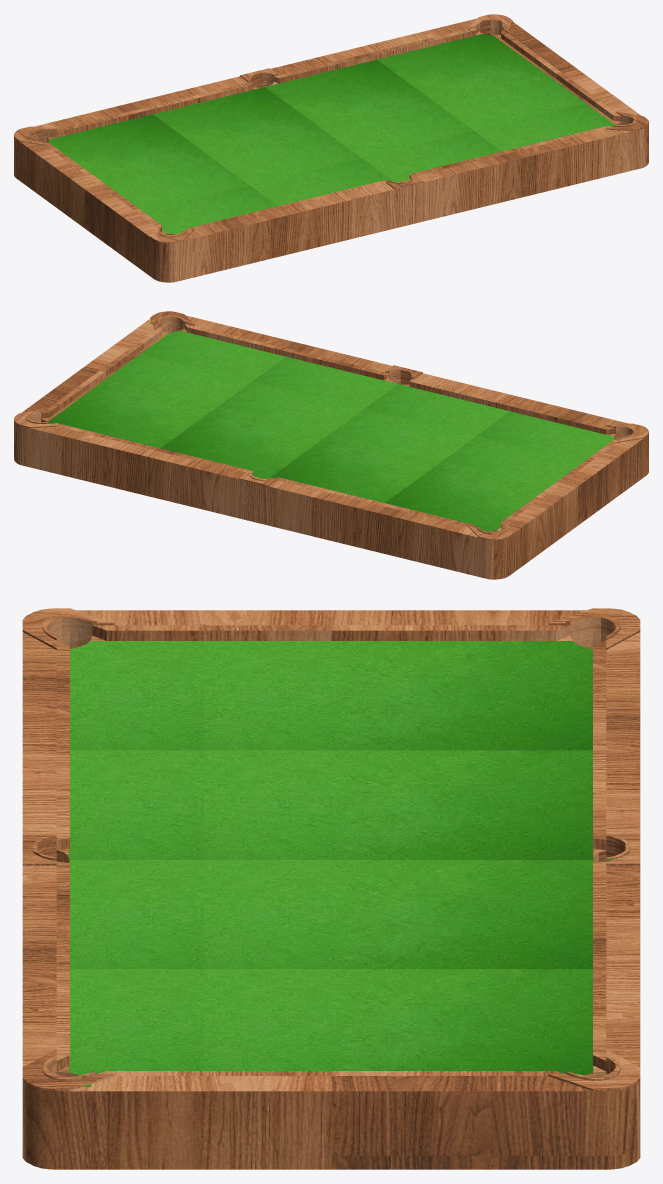
The model's file is Pool_Table.fbx.
3 renders of one model, top to bottom at view 1: azimuth 30°, elevation 25°; view 2: azimuth 150°, elevation 25°; view 3: azimuth 270°, elevation 25°, orthographic. The views are drawn at different scales.
Parts seen in each view (by area): view 1: pPlane7; view 2: pPlane7; view 3: pPlane7.
Boxes of the visible parts, box(x1,y1,x2,y2) form: pPlane7: box(14, 14, 648, 282); pPlane7: box(14, 311, 648, 579); pPlane7: box(22, 608, 640, 1169).
Size of the model in its own units: 9.47 by 0.7565 by 5.14.
